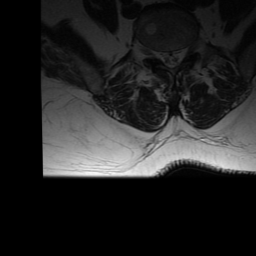CCS_normal: (168, 46, 176, 72)
LFS_normal: (185, 40, 191, 59)
LLS_normal: (176, 42, 184, 66)
RFS_normal: (152, 44, 160, 65)
RLS_normal: (160, 45, 168, 71)
